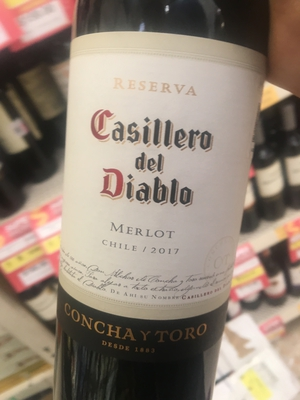casillero del diablo merlot: (52, 1, 264, 400)
